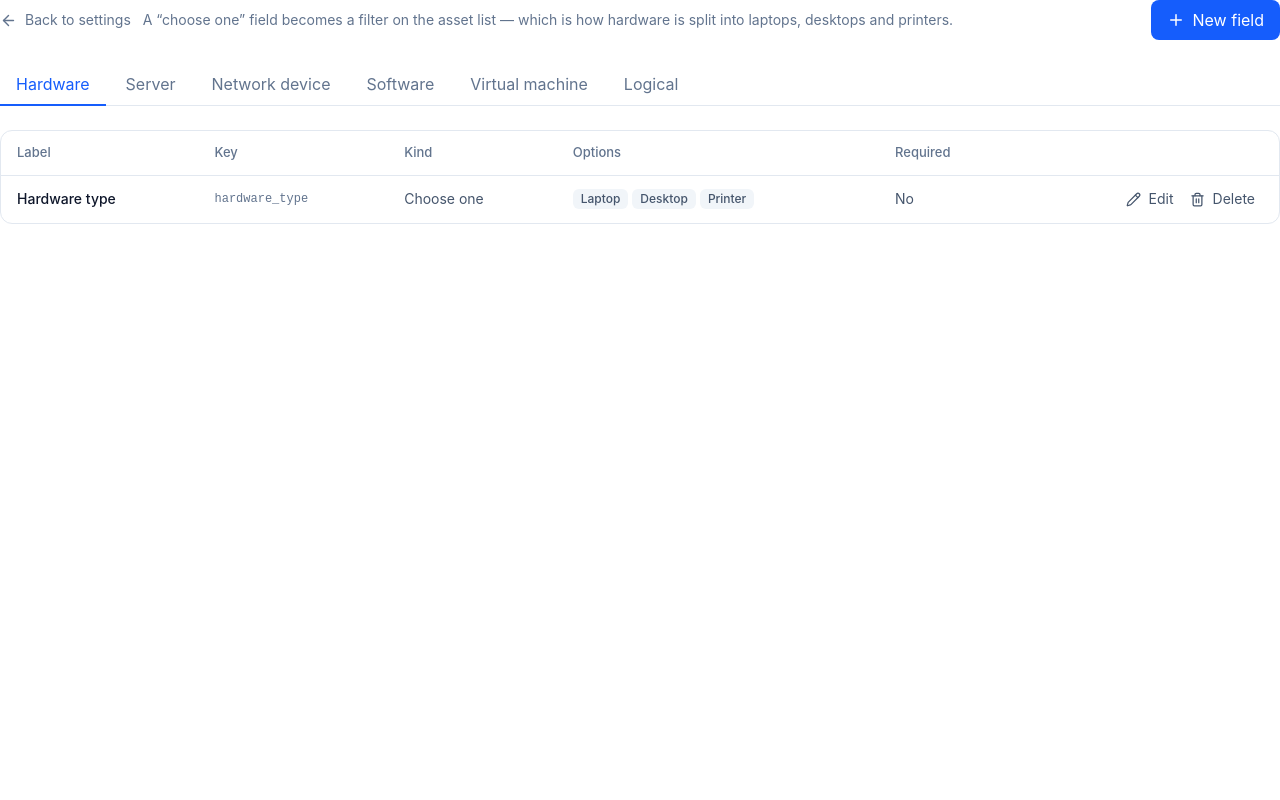
Test: the key and the kind cannot be changed on an existing field
Expected: the text "Hardware type" is shown, [1, 175, 198, 223]
Click the button with aria-label "Edit Hardware type".
click(1150, 199)  # box [1118, 183, 1182, 215]
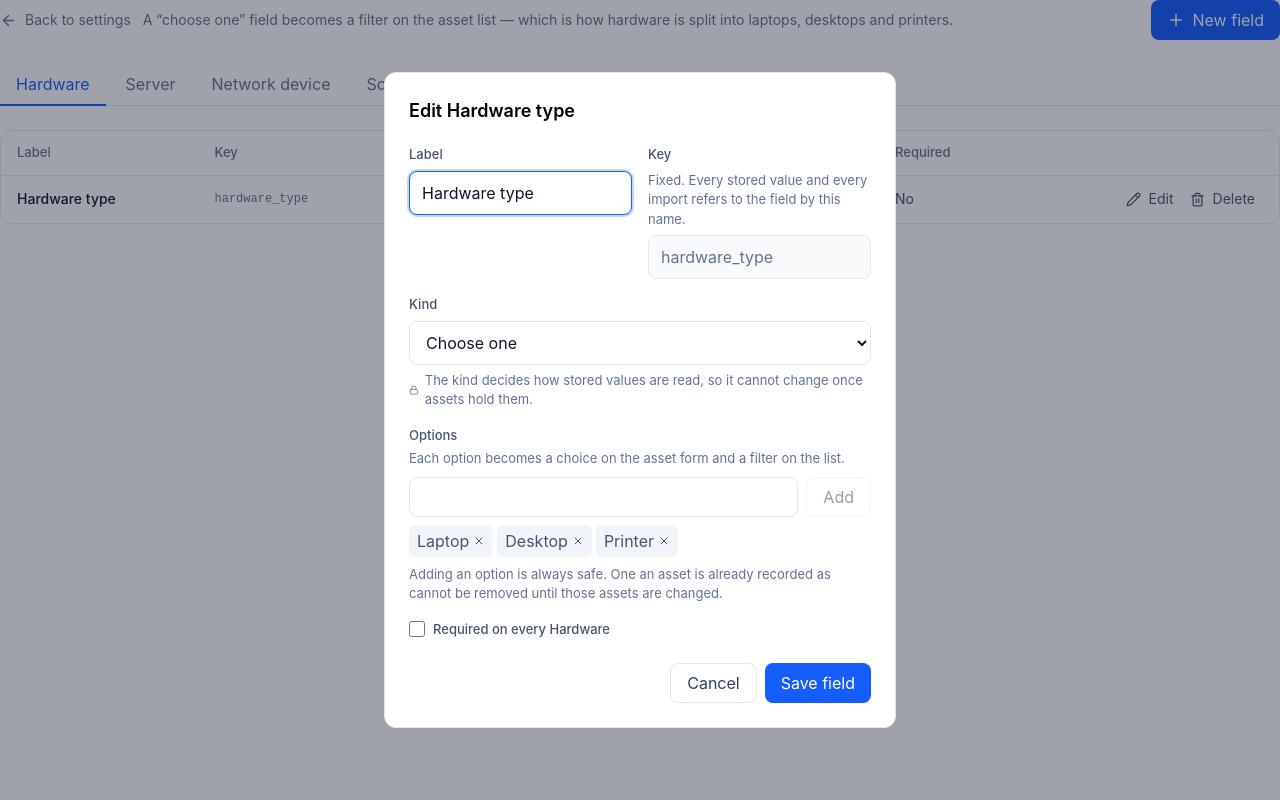
Now the dropdown labelled "Kind" is disabled, box [409, 320, 871, 364]
